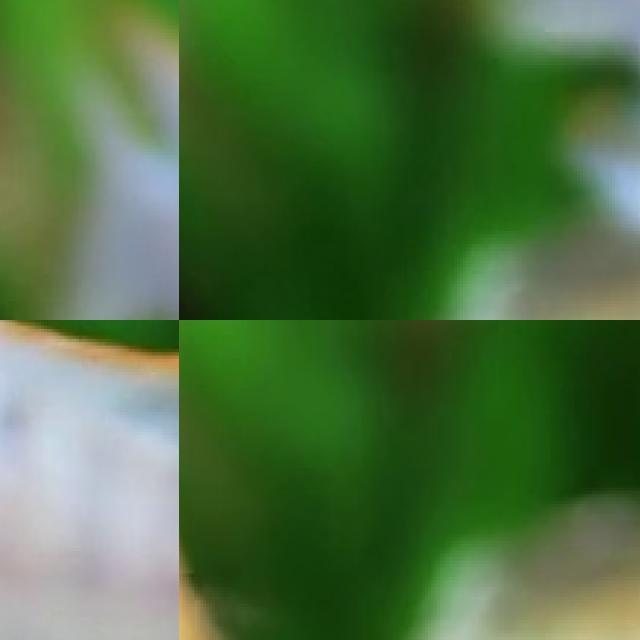fish: (2, 0, 179, 320), (495, 0, 640, 320)
